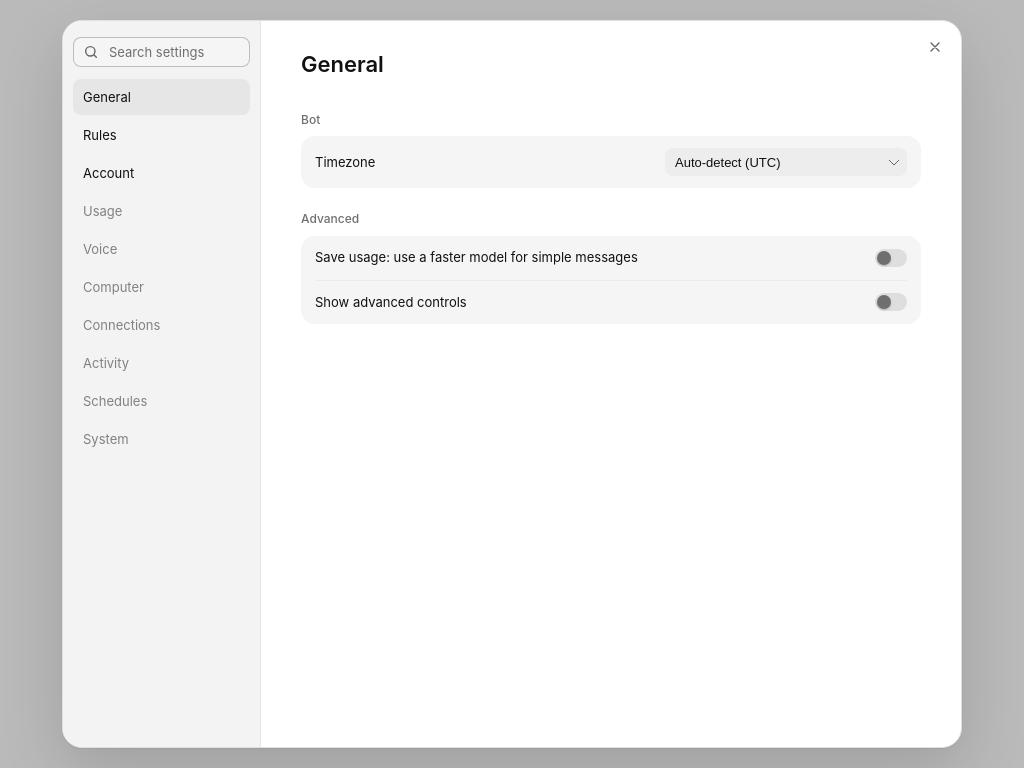
Test: Settings search › a miss says so, with no subtitle
The image size is (1024, 768).
Step 1. Type "zzzz" into the search field labelled "Search settings" → (176, 52), box [107,43,244,61]
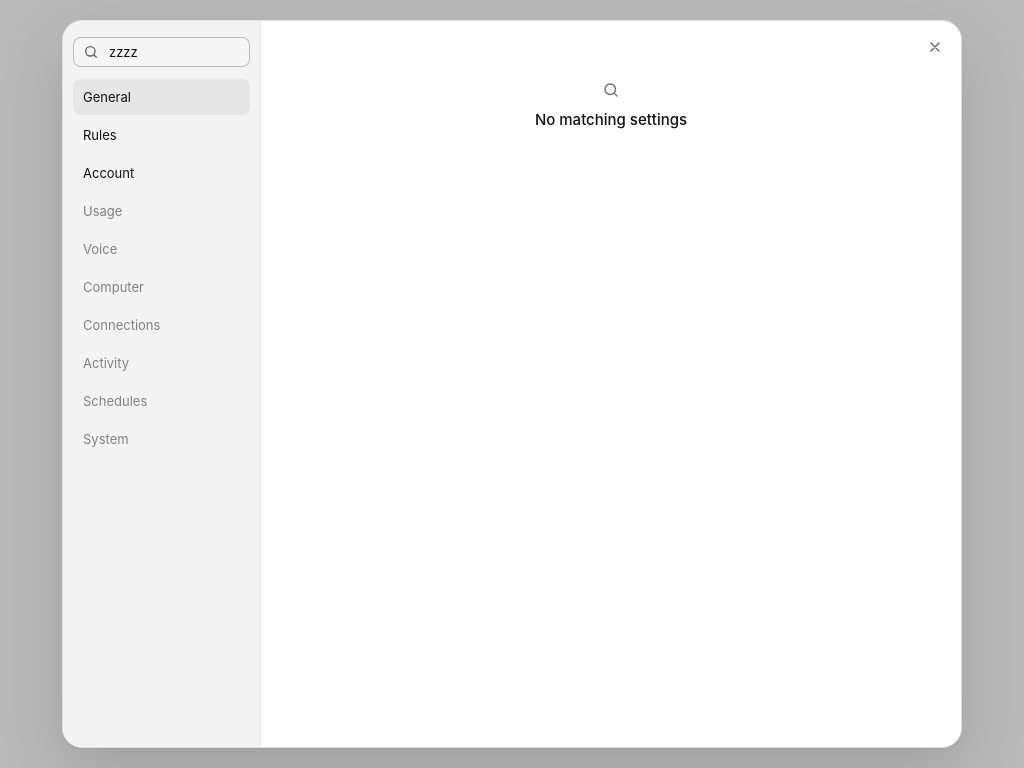
Expected: the message reads "No matching settings", [535,110,687,129]
